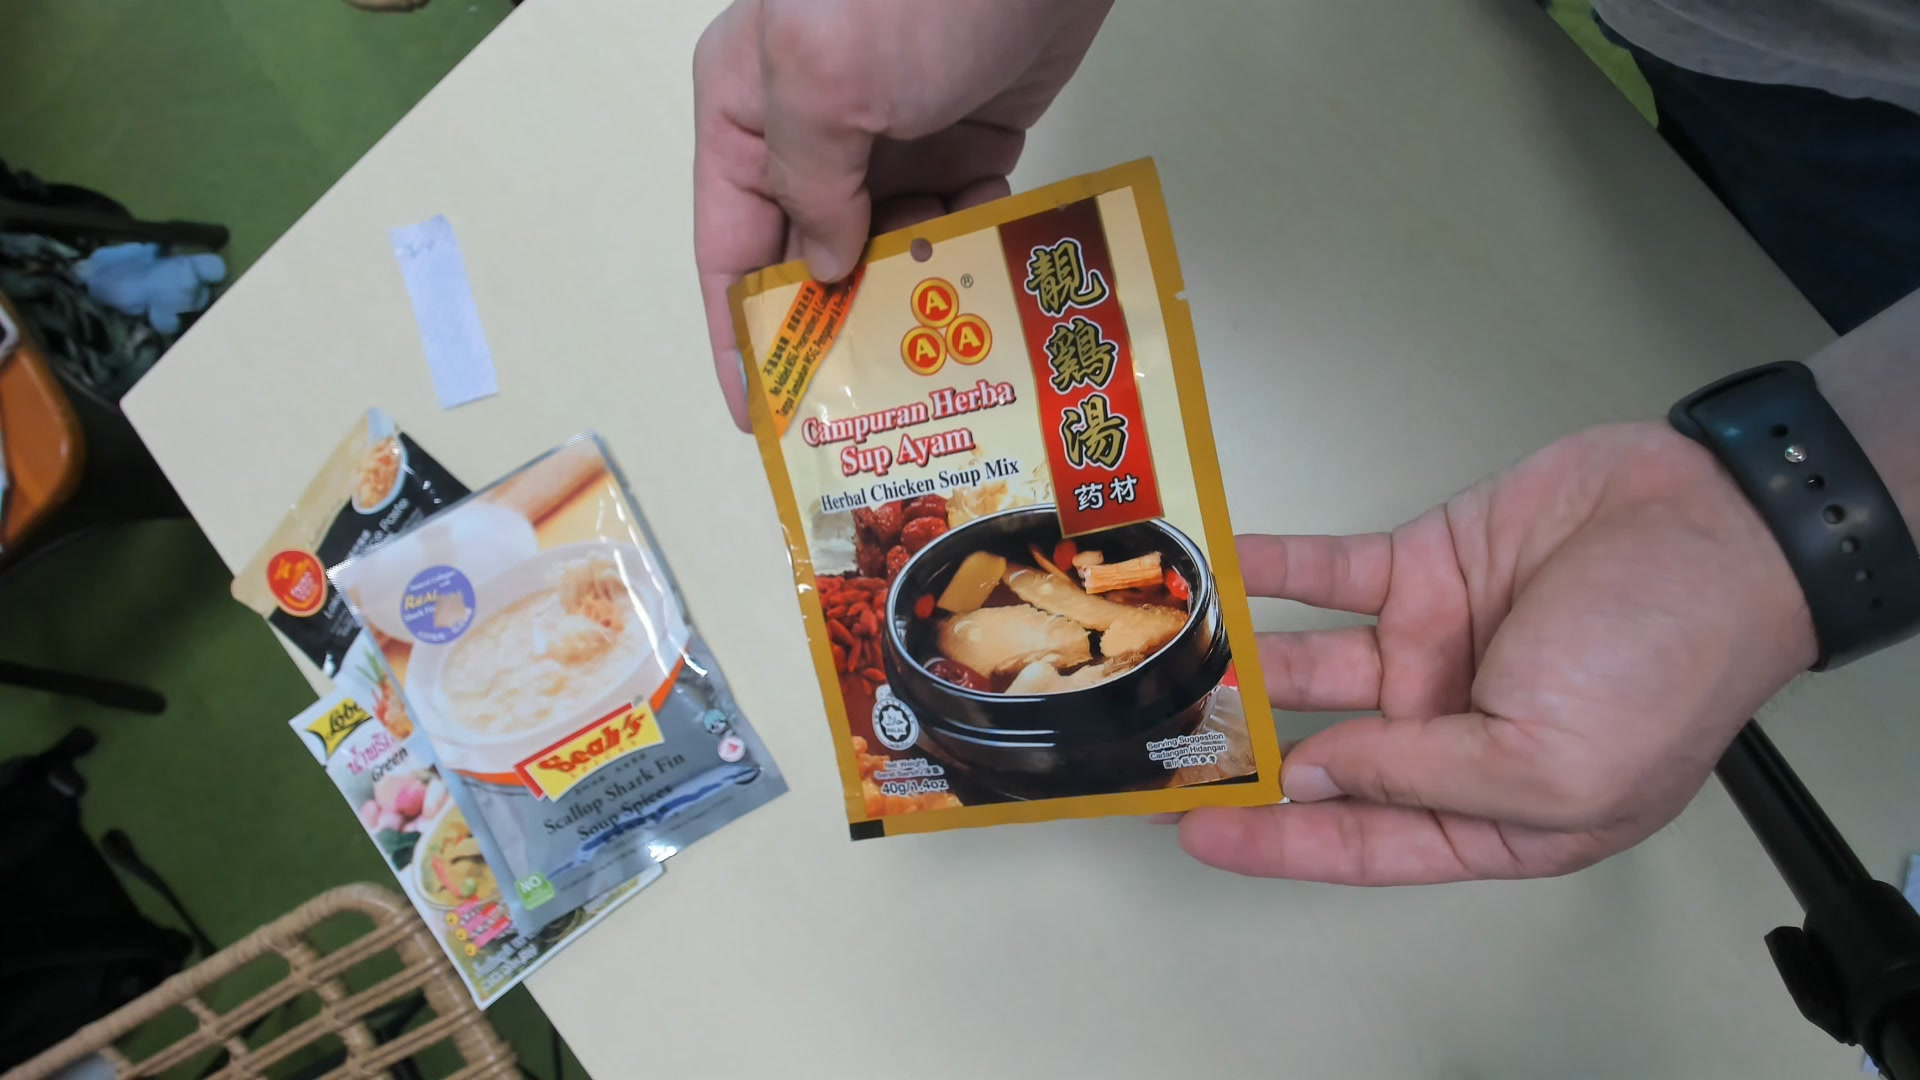OtherSauceDressing_0-99g_Halal_NonHealthy: (728, 150, 1288, 857)
